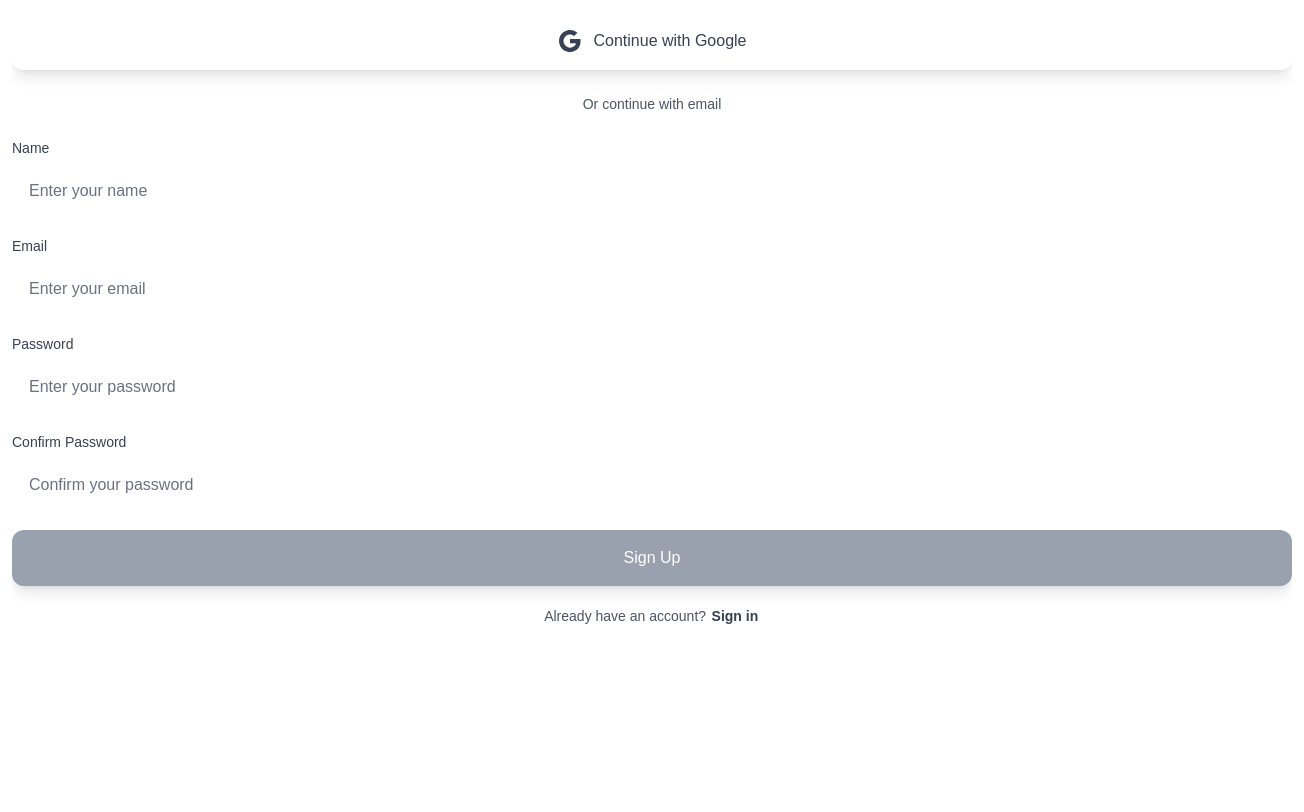
AuthForm Component › Signup Mode › validates passwords match before submission
Type "Test User" into the field labelled "Name". click: (652, 191)
box: [12, 166, 1292, 216]
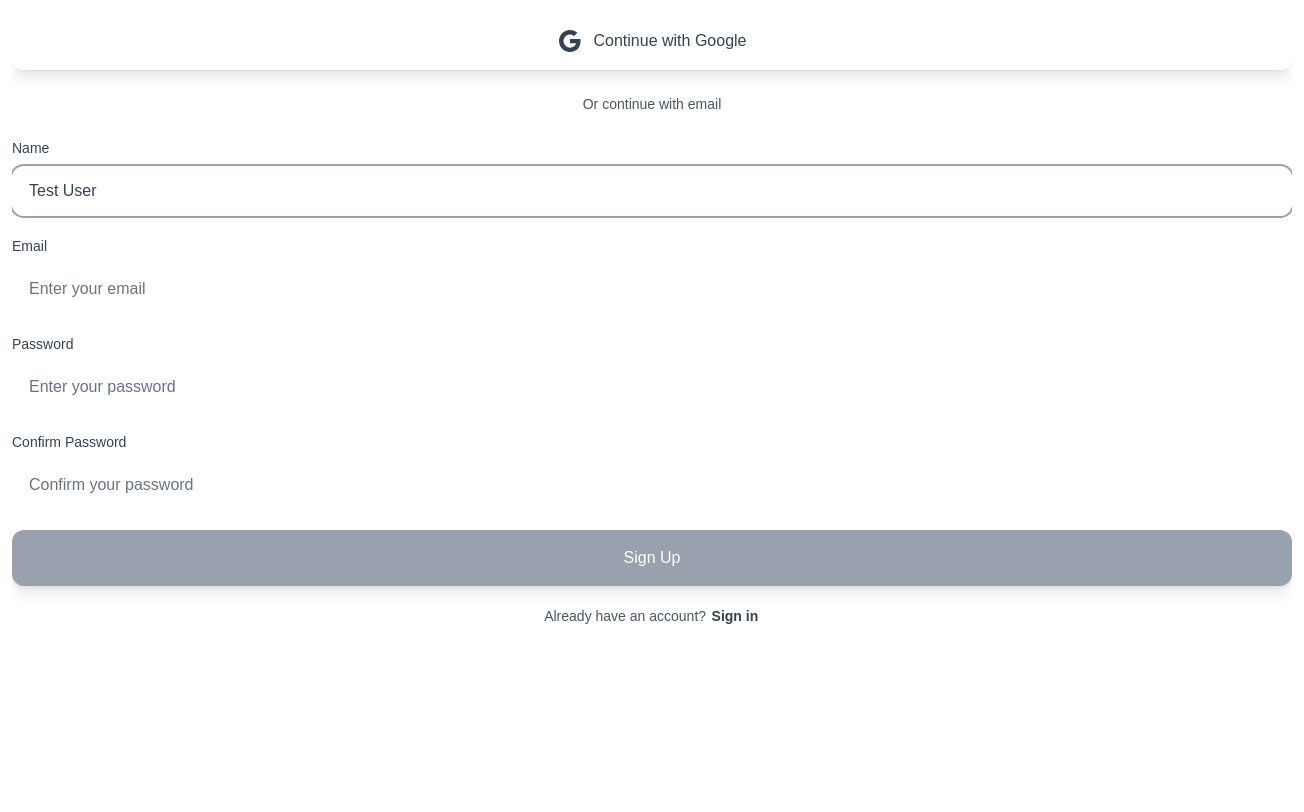
Type "test@example.com" into the field labelled "Email". click: (652, 289)
box: [12, 264, 1292, 314]
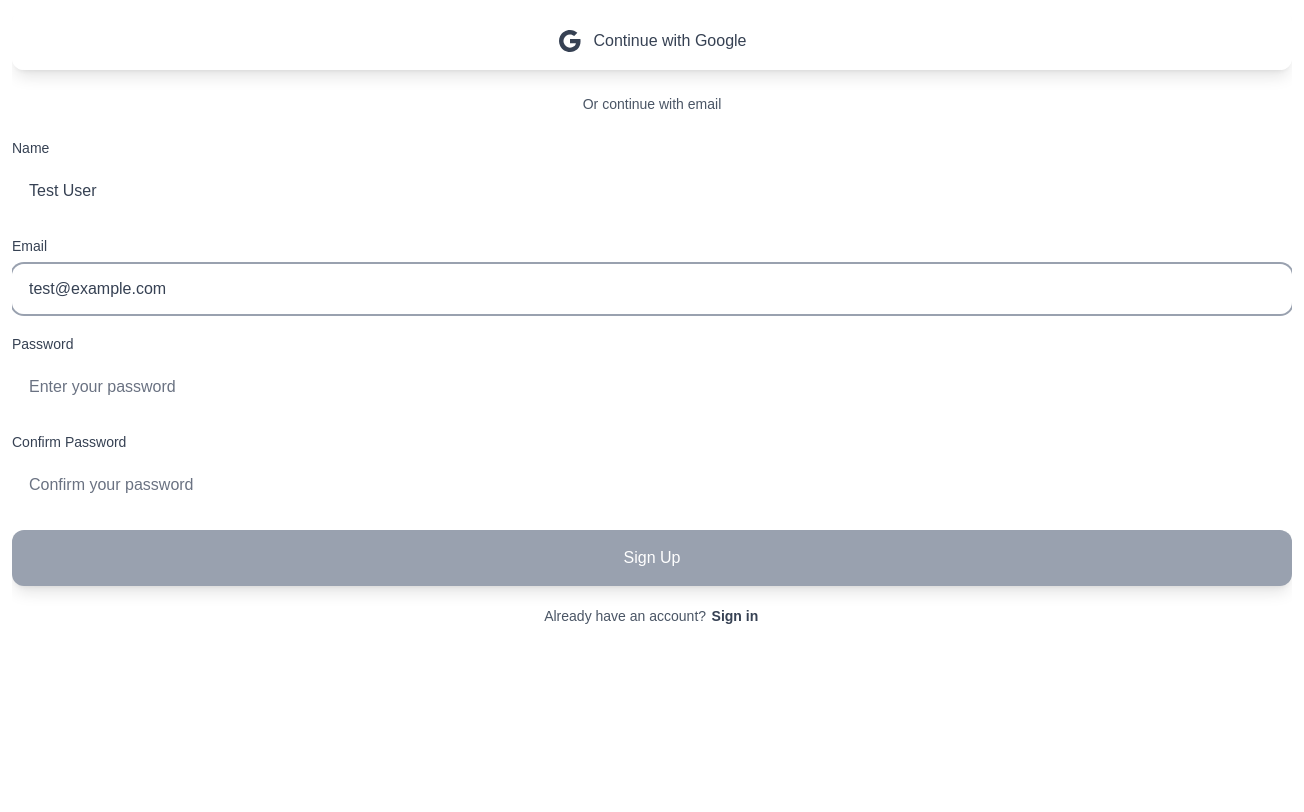
Type "password123" into the password field labelled "Password". click: (652, 387)
box: [12, 362, 1292, 412]
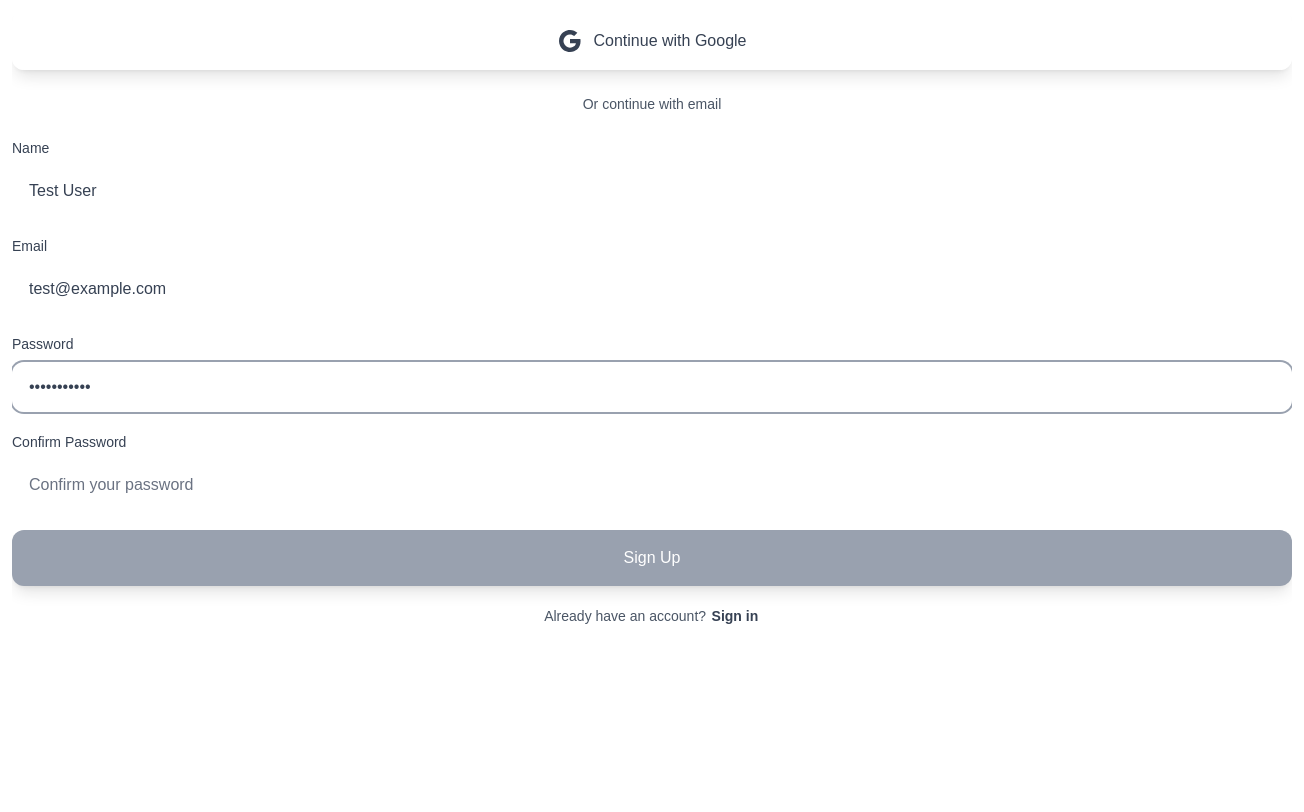
Type "different123" into the password field labelled "Confirm Password". click: (652, 485)
box: [12, 460, 1292, 510]
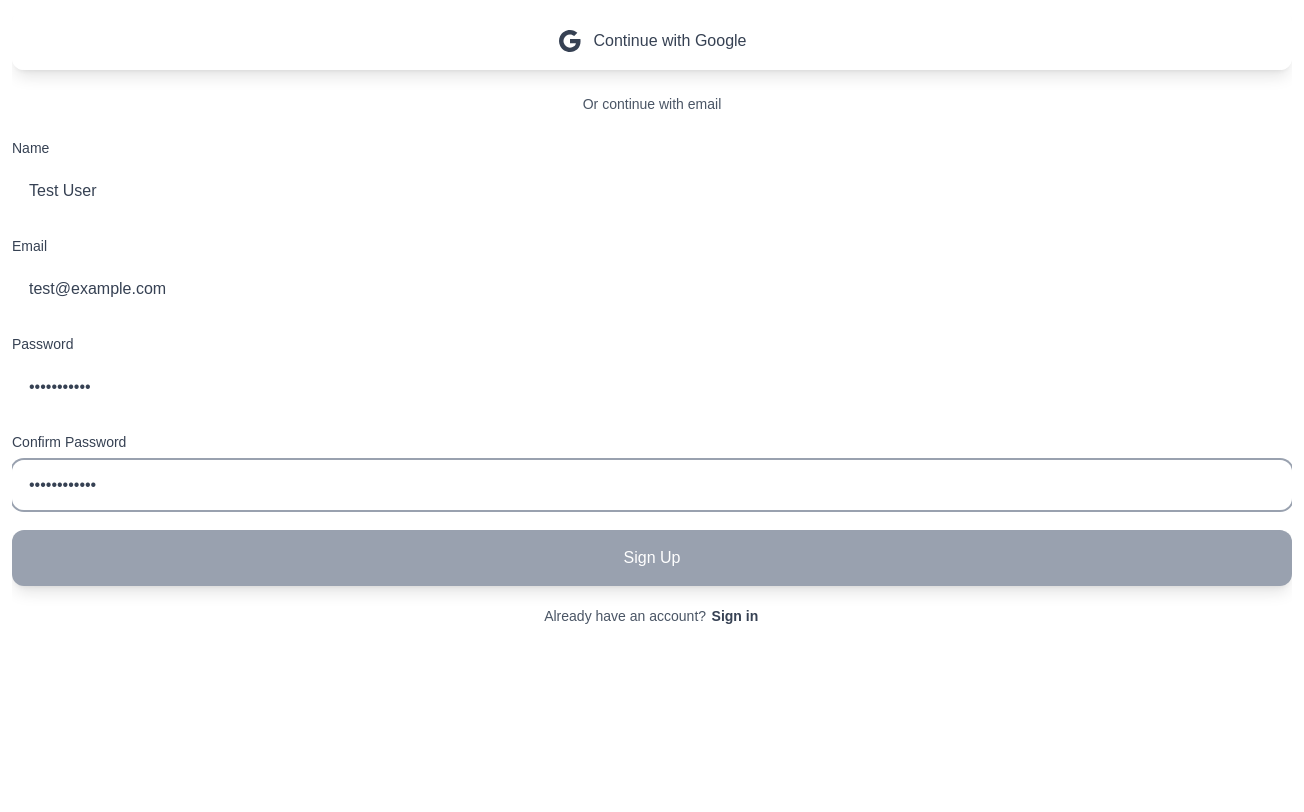
Click the button "Sign Up". click: (652, 558)
box: [12, 530, 1292, 586]
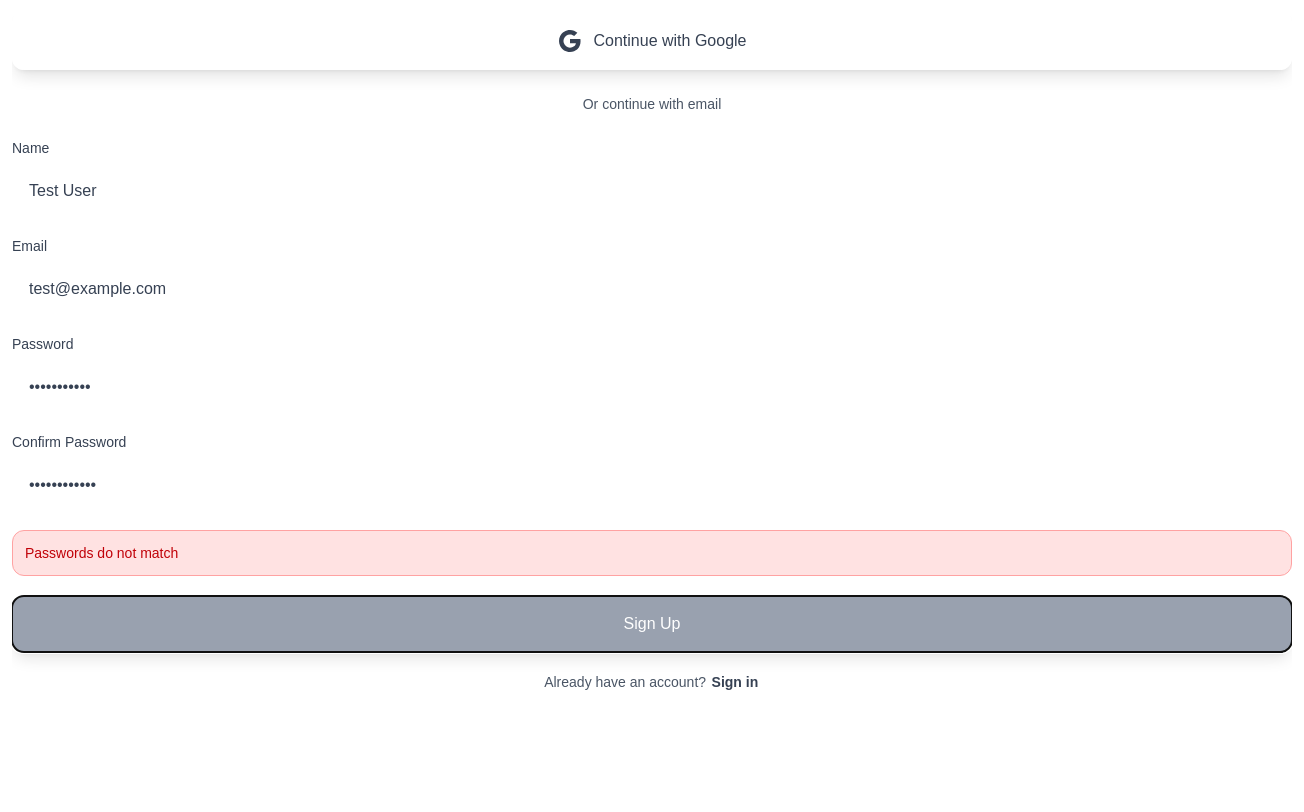
Now the text "Passwords do not match" is shown, box [12, 530, 1292, 576]
